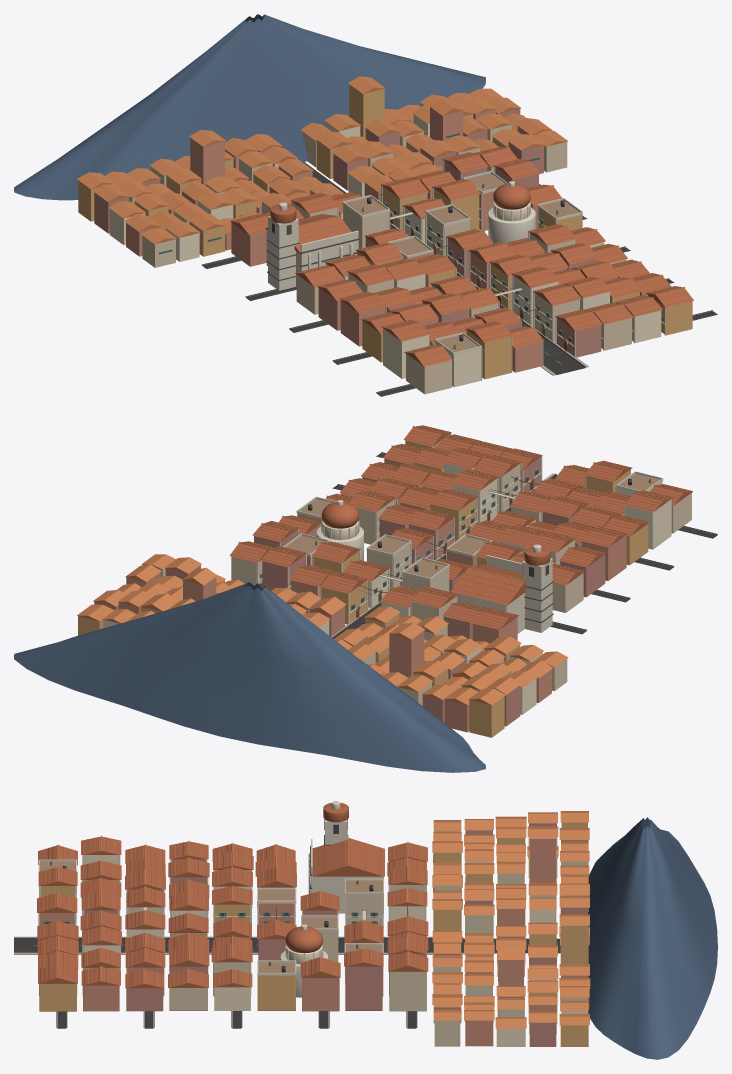
File: bazaar_district.glb
3 views of the same model, one above another, from view 1: azimuth 30°, elevation 25°; view 2: azimuth 150°, elevation 25°; view 3: azimuth 270°, elevation 25° (orthographic).
Visible parts, largest first — view 1: district_batch_sunlitterracotta, district_batch_etnarock, district_batch_terracottatiles, district_batch_palebaroquestone, district_batch_fadedochre, district_batch_warmsalmon, district_batch_limestonecream, district_batch_agedrose, district_batch_sunlitivory, district_batch_dustyroof, district_batch_darkavenue, baroque_tower-col (+45 smaller); view 2: district_batch_etnarock, district_batch_sunlitterracotta, district_batch_terracottatiles, district_batch_palebaroquestone, district_batch_warmsalmon, district_batch_fadedochre, district_batch_dustyroof, baroque_church_pitched_roof-col, baroque_tower-col, district_batch_agedrose, district_batch_sunlitivory, building_08-col (+52 smaller); view 3: district_batch_sunlitterracotta, district_batch_etnarock, district_batch_terracottatiles, district_batch_fadedochre, district_batch_warmsalmon, district_batch_limestonecream, district_batch_palebaroquestone, baroque_church_pitched_roof-col, district_batch_dustyroof, district_batch_darkavenue, district_batch_agedrose, building_53-col (+70 smaller).
Boxes of the visible parts, left/top/right/bottom form: district_batch_sunlitterracotta: left=77, top=76, right=690, bottom=362; district_batch_etnarock: left=14, top=14, right=485, bottom=200; district_batch_terracottatiles: left=231, top=146, right=692, bottom=364; district_batch_palebaroquestone: left=279, top=160, right=665, bottom=387; district_batch_fadedochre: left=78, top=84, right=508, bottom=256; district_batch_warmsalmon: left=126, top=107, right=535, bottom=256; district_batch_limestonecream: left=129, top=103, right=567, bottom=267; district_batch_agedrose: left=94, top=109, right=543, bottom=233; district_batch_sunlitivory: left=109, top=114, right=530, bottom=261; district_batch_dustyroof: left=346, top=173, right=579, bottom=352; district_batch_darkavenue: left=202, top=162, right=716, bottom=396; baroque_tower-col: left=268, top=216, right=298, bottom=290; district_batch_etnarock: left=14, top=582, right=485, bottom=772; district_batch_sunlitterracotta: left=77, top=425, right=690, bottom=705; district_batch_terracottatiles: left=230, top=425, right=692, bottom=628; district_batch_palebaroquestone: left=257, top=433, right=663, bottom=639; district_batch_warmsalmon: left=118, top=572, right=551, bottom=732; district_batch_fadedochre: left=78, top=585, right=520, bottom=737; district_batch_dustyroof: left=285, top=473, right=659, bottom=577; baroque_church_pitched_roof-col: left=450, top=565, right=525, bottom=605; baroque_tower-col: left=522, top=558, right=552, bottom=632; district_batch_agedrose: left=94, top=565, right=520, bottom=726; district_batch_sunlitivory: left=103, top=520, right=542, bottom=714; building_08-col: left=625, top=499, right=671, bottom=549; district_batch_sunlitterracotta: left=43, top=811, right=590, bottom=1028; district_batch_etnarock: left=588, top=817, right=717, bottom=1059; district_batch_terracottatiles: left=39, top=803, right=425, bottom=987; district_batch_fadedochre: left=433, top=822, right=588, bottom=1046; district_batch_warmsalmon: left=433, top=830, right=588, bottom=1046; district_batch_limestonecream: left=433, top=831, right=588, bottom=1046; district_batch_palebaroquestone: left=33, top=801, right=427, bottom=987; baroque_church_pitched_roof-col: left=312, top=838, right=384, bottom=876; district_batch_dustyroof: left=39, top=862, right=383, bottom=972; district_batch_darkavenue: left=14, top=938, right=560, bottom=1028; district_batch_agedrose: left=433, top=823, right=589, bottom=1046; building_53-col: left=345, top=966, right=382, bottom=1010.
Size of what is drawn, in the model's own units: 137 by 34.9 by 177.
